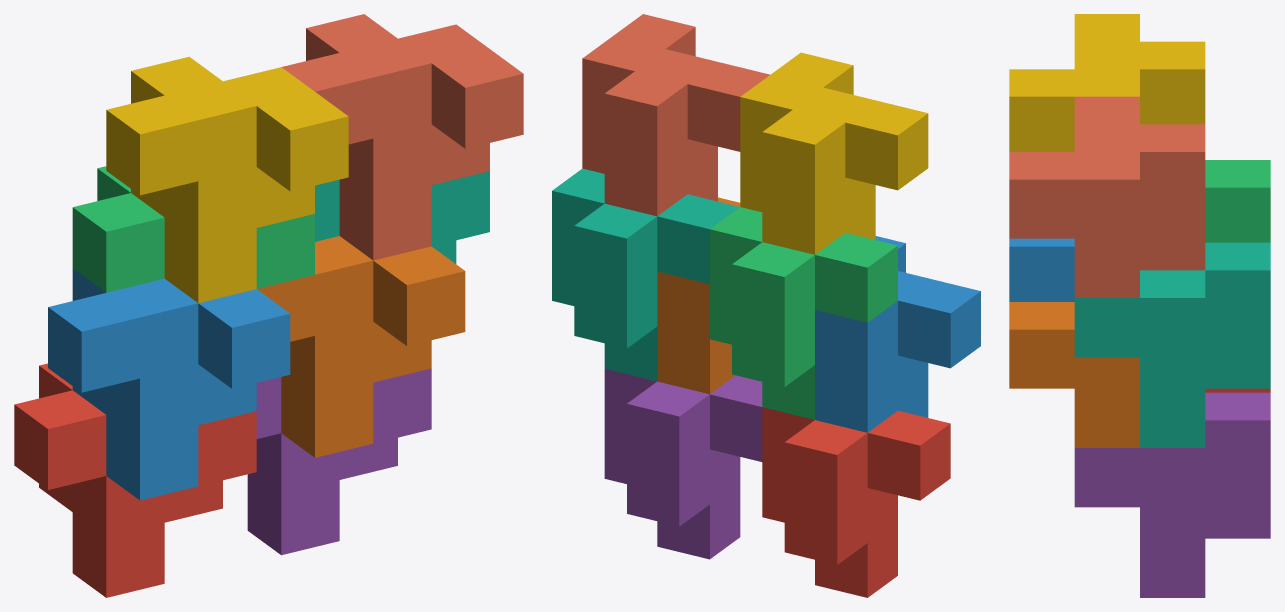
Rendered from tiling.obj.
3 renders of one model, left to right at view 1: azimuth 30°, elevation 25°; view 2: azimuth 150°, elevation 25°; view 3: azimuth 270°, elevation 25°, orthographic. The views are drawn at different scales.
Parts seen in each view (by area): view 1: copy_1_domain_4, copy_1_domain_2, copy_1_domain_8, copy_1_domain_6, copy_1_domain_1, copy_1_domain_5, copy_1_domain_3, copy_1_domain_7; view 2: copy_1_domain_4, copy_1_domain_8, copy_1_domain_1, copy_1_domain_3, copy_1_domain_5, copy_1_domain_7, copy_1_domain_2, copy_1_domain_6; view 3: copy_1_domain_8, copy_1_domain_7, copy_1_domain_5, copy_1_domain_4, copy_1_domain_6, copy_1_domain_3, copy_1_domain_2.
Part boxes in pixels (bbox=[...]): copy_1_domain_4: bbox=[106, 56, 348, 303]; copy_1_domain_2: bbox=[48, 268, 290, 500]; copy_1_domain_8: bbox=[281, 14, 523, 260]; copy_1_domain_6: bbox=[257, 236, 465, 457]; copy_1_domain_1: bbox=[14, 363, 256, 597]; copy_1_domain_5: bbox=[247, 368, 431, 555]; copy_1_domain_3: bbox=[72, 166, 314, 292]; copy_1_domain_7: bbox=[315, 171, 489, 263]; copy_1_domain_4: bbox=[740, 52, 928, 254]; copy_1_domain_8: bbox=[582, 14, 769, 216]; copy_1_domain_1: bbox=[762, 407, 950, 597]; copy_1_domain_3: bbox=[710, 207, 897, 419]; copy_1_domain_5: bbox=[604, 369, 762, 559]; copy_1_domain_7: bbox=[552, 168, 739, 381]; copy_1_domain_2: bbox=[815, 236, 980, 432]; copy_1_domain_6: bbox=[657, 197, 740, 394]; copy_1_domain_8: bbox=[1009, 96, 1205, 297]; copy_1_domain_7: bbox=[1074, 242, 1270, 447]; copy_1_domain_5: bbox=[1074, 392, 1270, 597]; copy_1_domain_4: bbox=[1009, 14, 1205, 151]; copy_1_domain_6: bbox=[1009, 302, 1139, 447]; copy_1_domain_3: bbox=[1205, 160, 1270, 242]; copy_1_domain_2: bbox=[1009, 238, 1074, 301].
Size of the model in its own units: 7 by 8 by 4.
